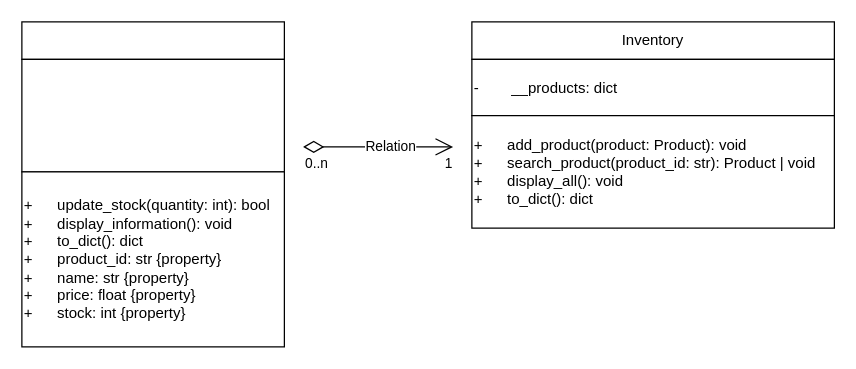
This 856x369 diagram has some shape labels left out. The centre of each missing label's shape, as x and y in pixels:
"- __product_id: str - __name: str - __price: float - __stock: int" goes at point (152, 115).
"Product" goes at point (152, 40).
